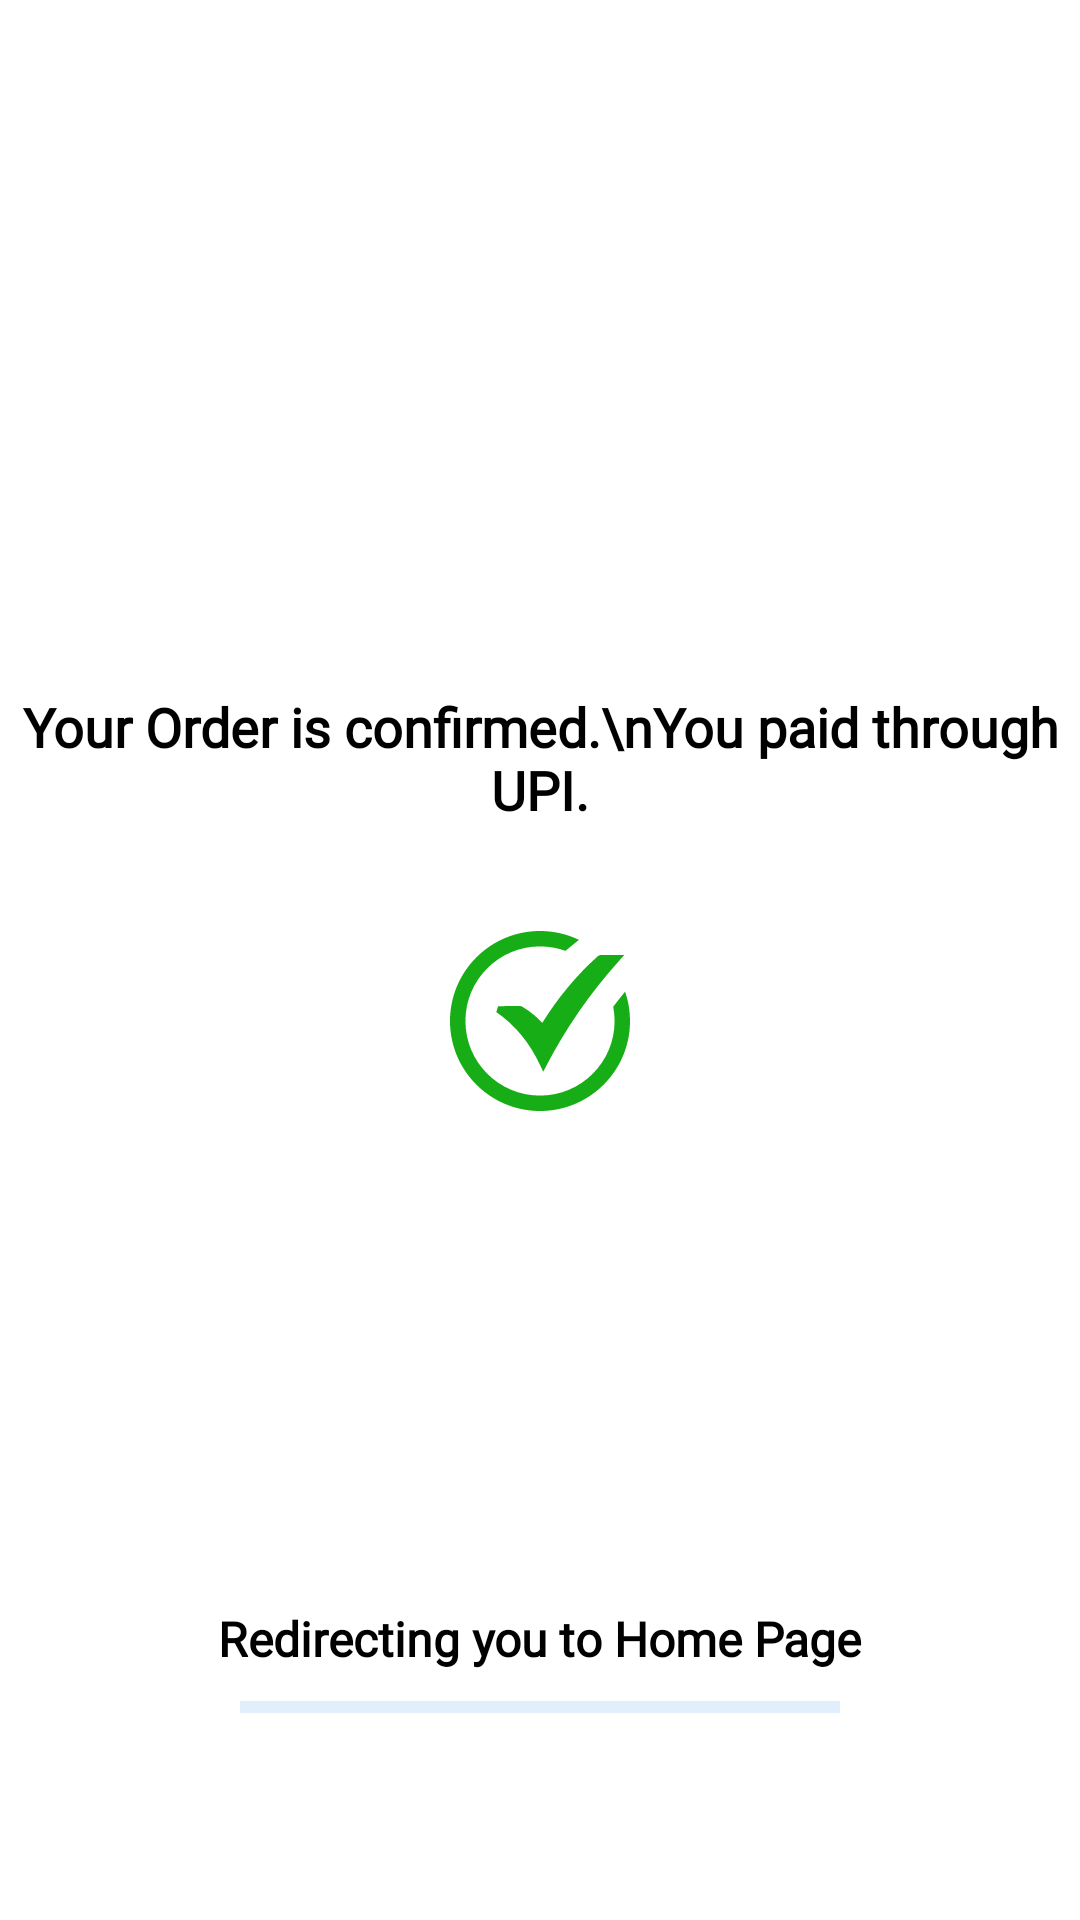

Point at icon controls on the screen. Image size 1080px x 1920px, points as [x,y].
success check mark: [540,1021]
